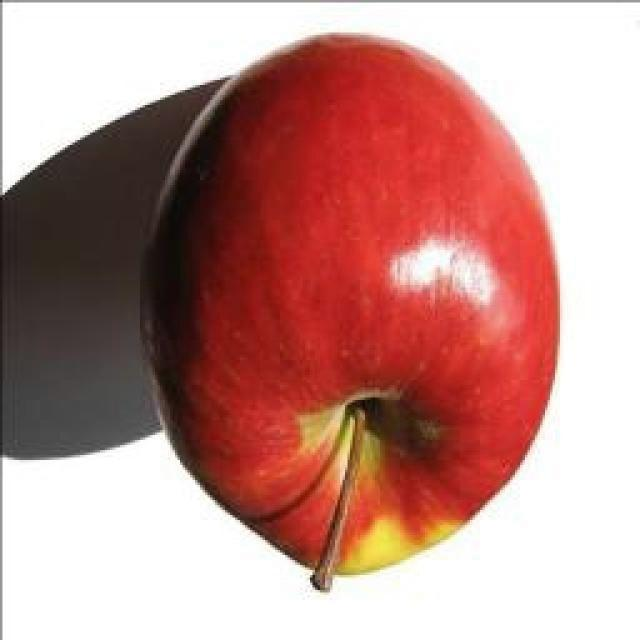Apple: (156, 35, 558, 589)
